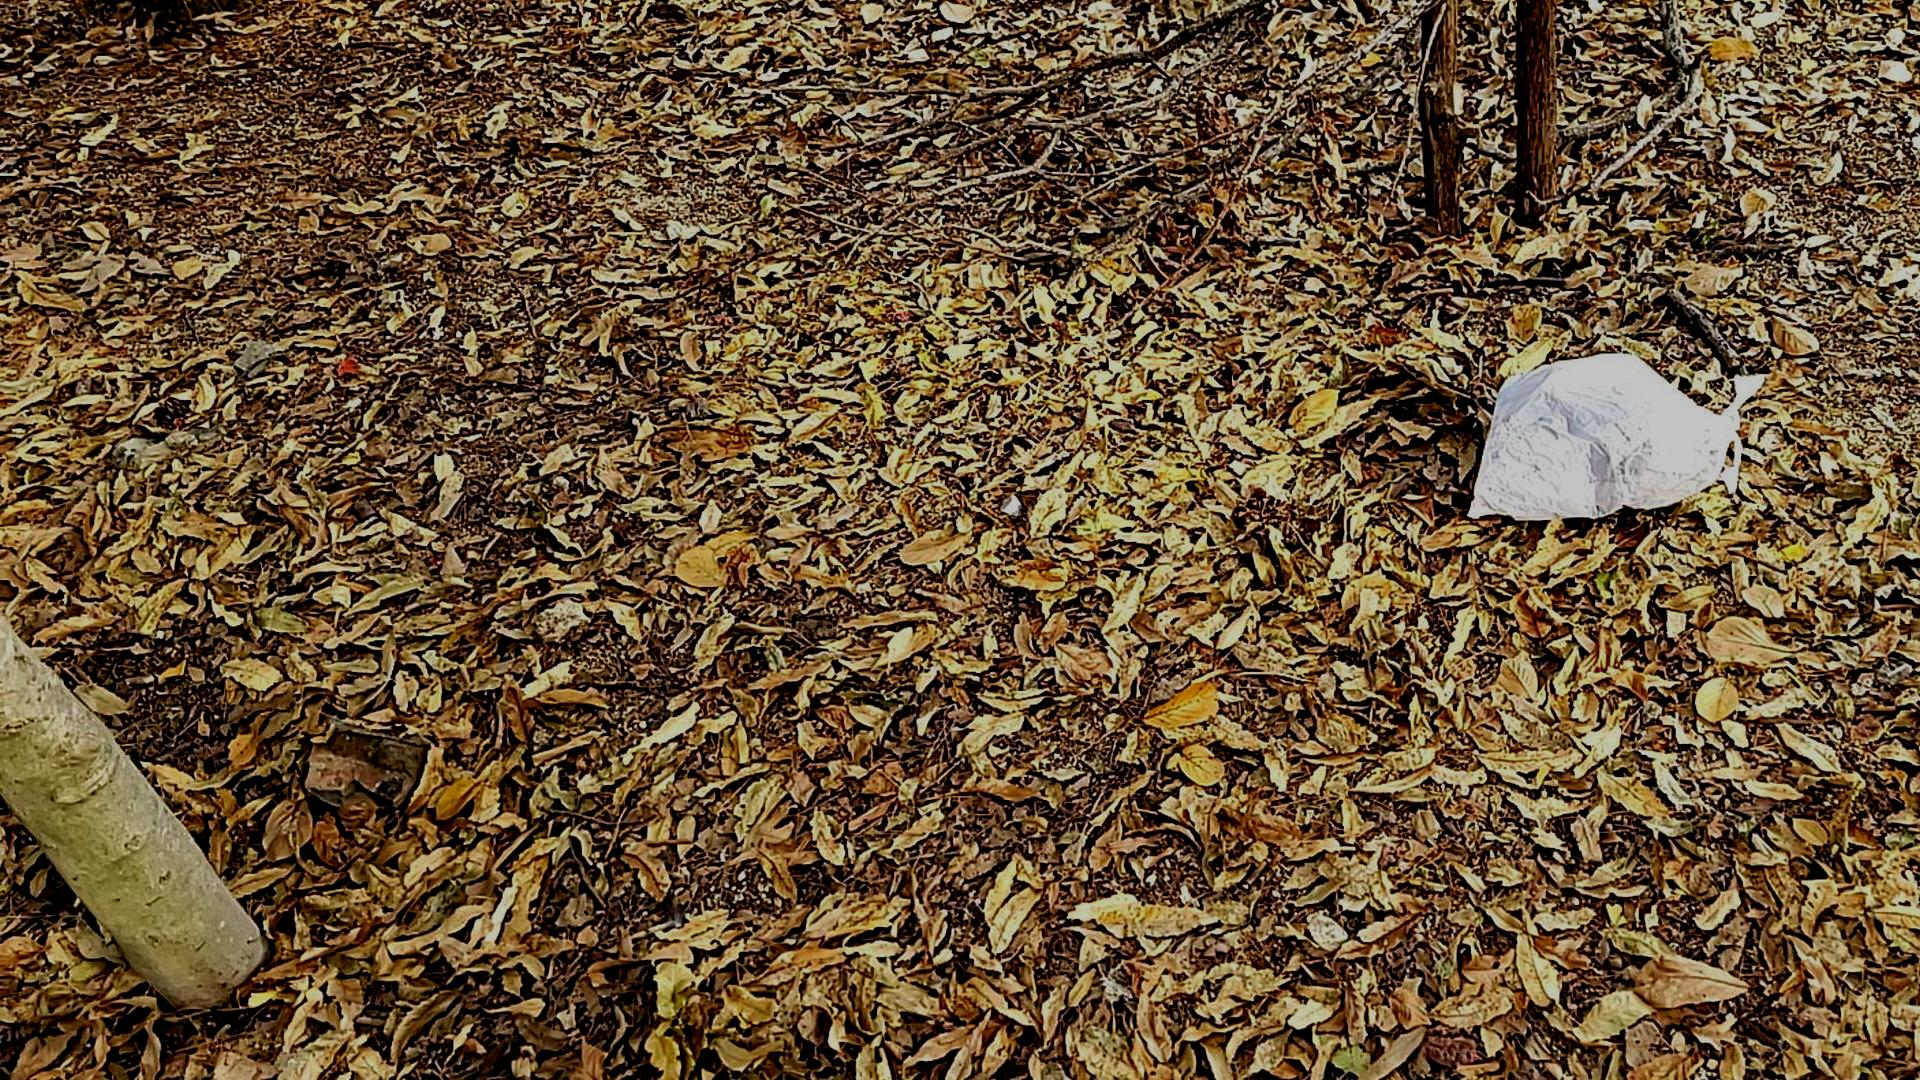white_bag: (1436, 342, 1771, 549)
